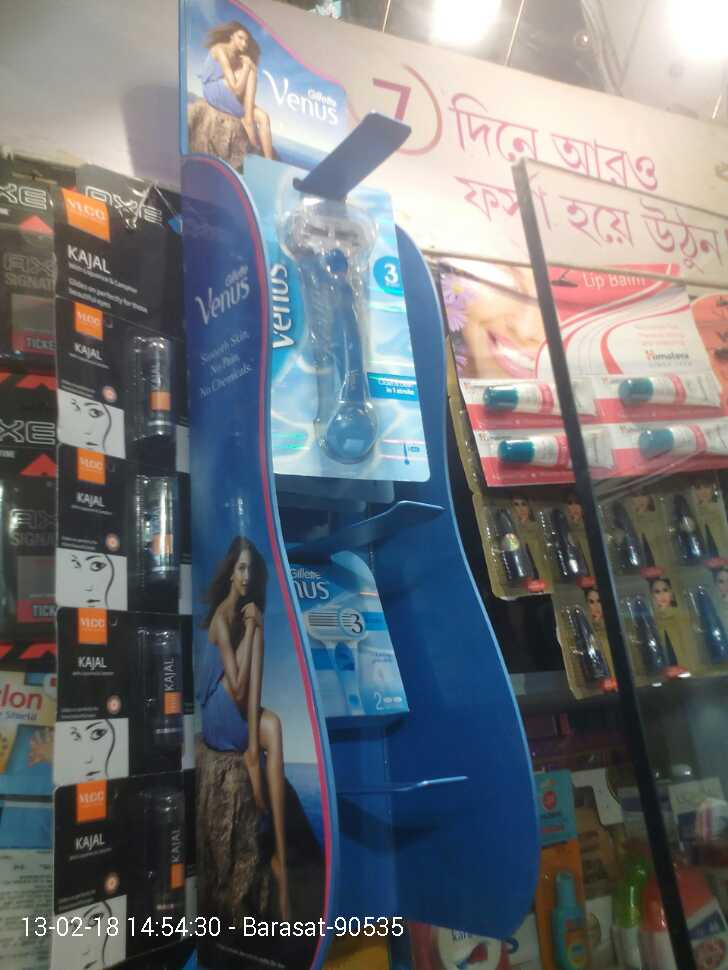venus: (243, 154, 427, 483), (286, 560, 413, 713)
